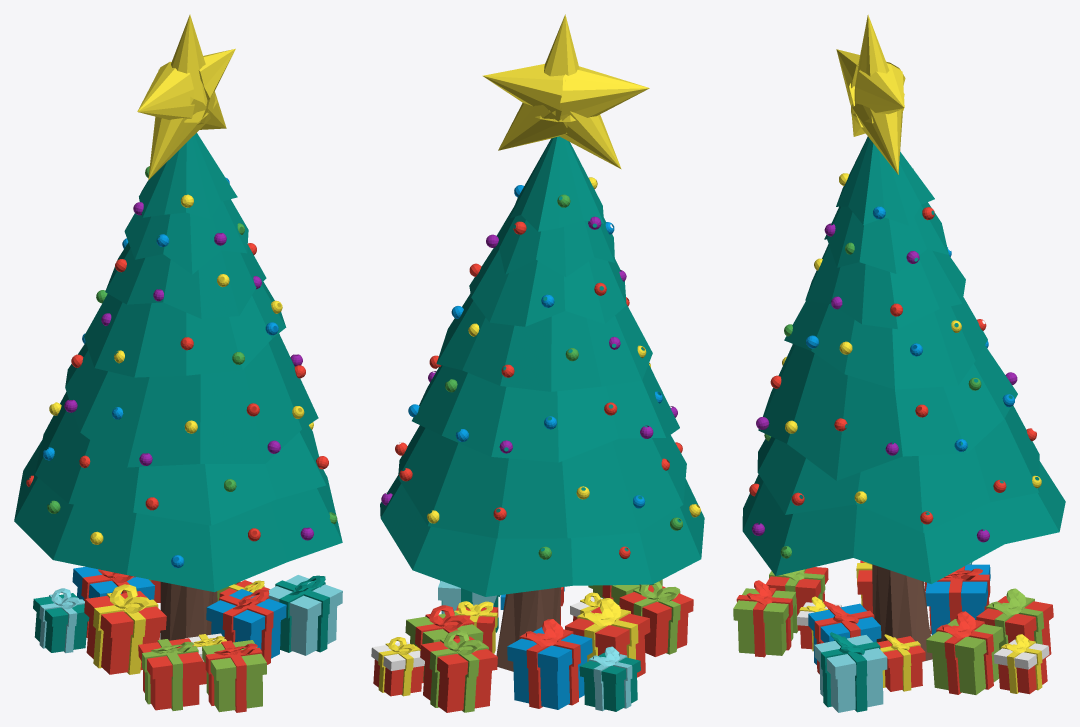
Rendered from Christmas Tree.glb.
3 views of the same model, side by side, from view 1: azimuth 30°, elevation 25°; view 2: azimuth 150°, elevation 25°; view 3: azimuth 270°, elevation 25° (orthographic).
Visible parts, largest first — view 1: group375406252, group899378052, group1174422657, group1576951165, group570321177, group838493682, group718220577; view 2: group375406252, group899378052, group1174422657, group838493682, group718220577, group1576951165, group570321177; view 3: group375406252, group899378052, group838493682, group718220577, group570321177, group1174422657.
Boxes of the visible parts, box(x1,y1,x2,y2) form: group375406252: box(14, 133, 342, 674); group899378052: box(138, 633, 266, 712); group1174422657: box(137, 61, 194, 119); group1576951165: box(148, 96, 210, 179); group570321177: box(171, 14, 217, 122); group838493682: box(158, 48, 235, 100); group718220577: box(196, 91, 226, 129); group375406252: box(371, 136, 704, 712); group899378052: box(570, 579, 693, 656); group1174422657: box(560, 66, 649, 127); group838493682: box(482, 64, 565, 121); group718220577: box(498, 103, 566, 150); group1576951165: box(546, 110, 621, 169); group570321177: box(535, 14, 579, 121); group375406252: box(742, 136, 1065, 712); group899378052: box(733, 567, 841, 657); group838493682: box(855, 63, 904, 114); group718220577: box(852, 103, 902, 174); group570321177: box(851, 14, 903, 123); group1174422657: box(836, 49, 905, 105).
Size of the model in its own units: 0.4099 by 0.8753 by 0.4138.
